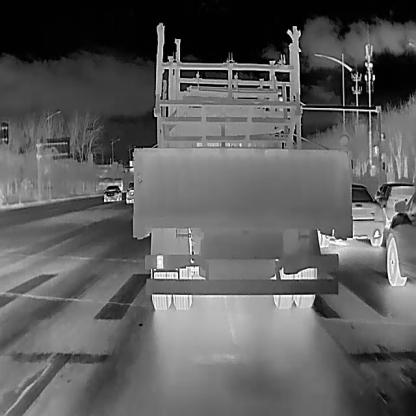car: (310, 180, 385, 246), (374, 180, 416, 229), (101, 182, 123, 202), (124, 180, 137, 204)
truck: (131, 76, 354, 310)
